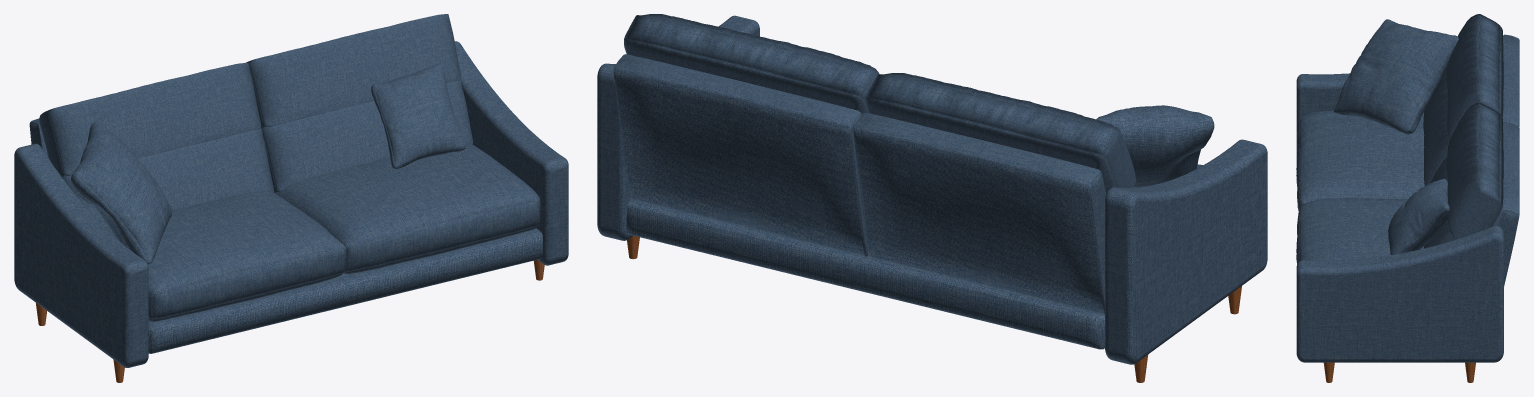
Rendered from sofa.glb.
3 renders of one model, left to right at view 1: azimuth 30°, elevation 25°; view 2: azimuth 150°, elevation 25°; view 3: azimuth 270°, elevation 25°, orthographic. The views are drawn at different scales.
Parts seen in each view (by area): view 1: sofa; view 2: sofa; view 3: sofa.
Part boxes in pixels (x1=…): sofa: x1=14, y1=14, x2=568, y2=382; sofa: x1=597, y1=14, x2=1267, y2=382; sofa: x1=1296, y1=14, x2=1519, y2=382.
Size of the model in its own units: 1.84 by 0.82 by 0.8711.
Materials: 3 (3 with a texture image).
